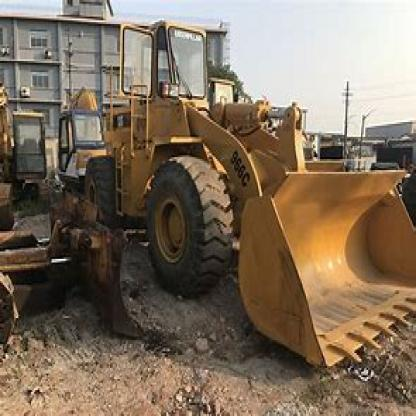bull_dozer/loader/grader: (78, 9, 414, 377)
